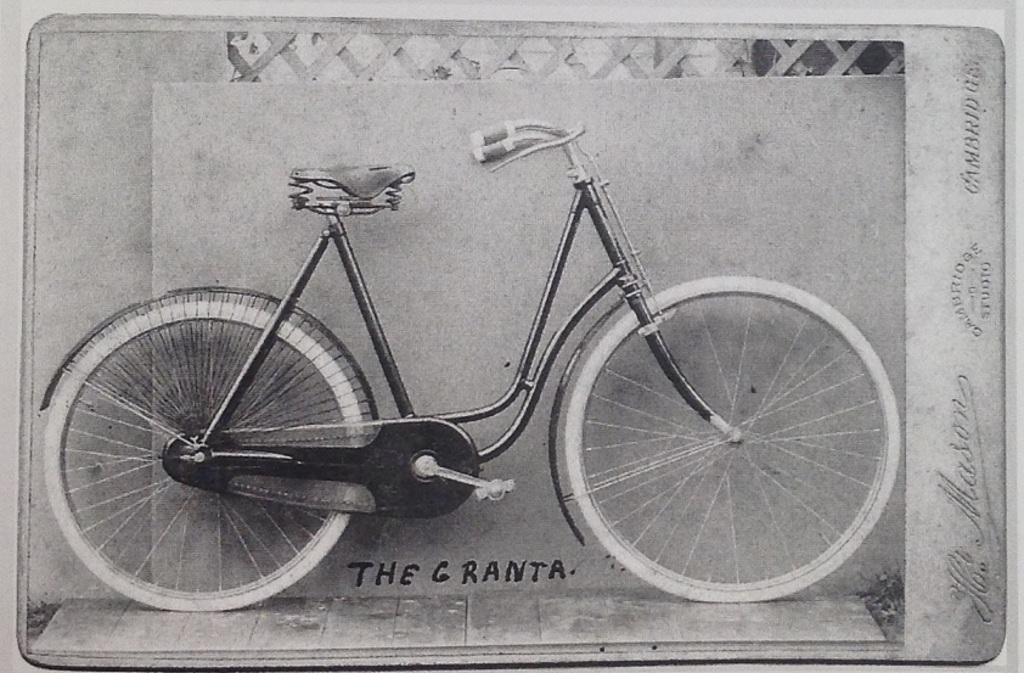Bike: (102, 174, 834, 579)
